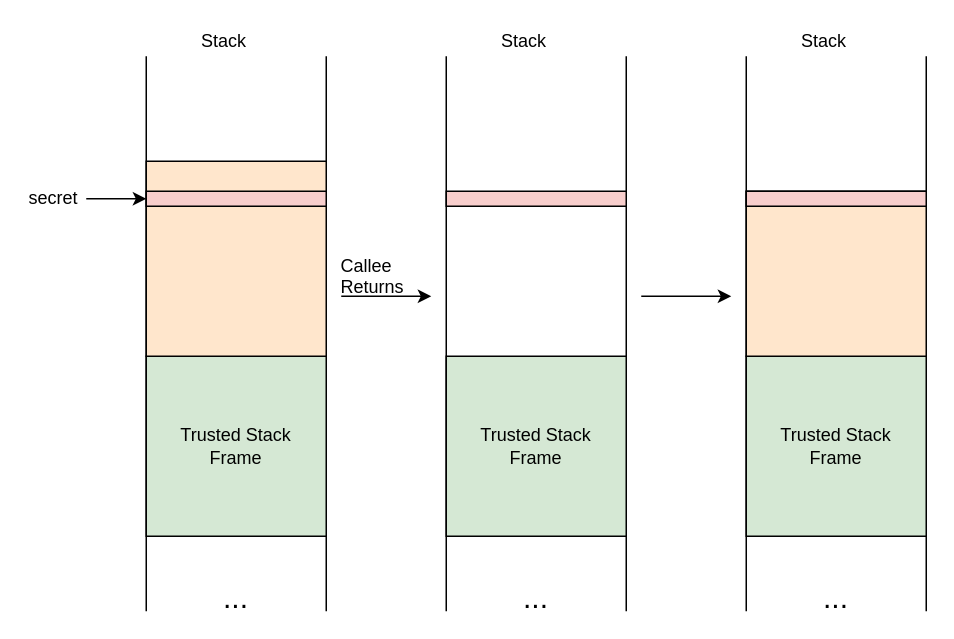
This 954x639 diagram has some shape labels left out. The shapes that lost their labels are listed below. From the top down, each one's box as (x1, y1, x2, y2) in pixels, then its label:
(145, 160, 326, 356): Untrusted Stack Frame 1
(745, 190, 926, 356): Untrusted Stack Frame 2
